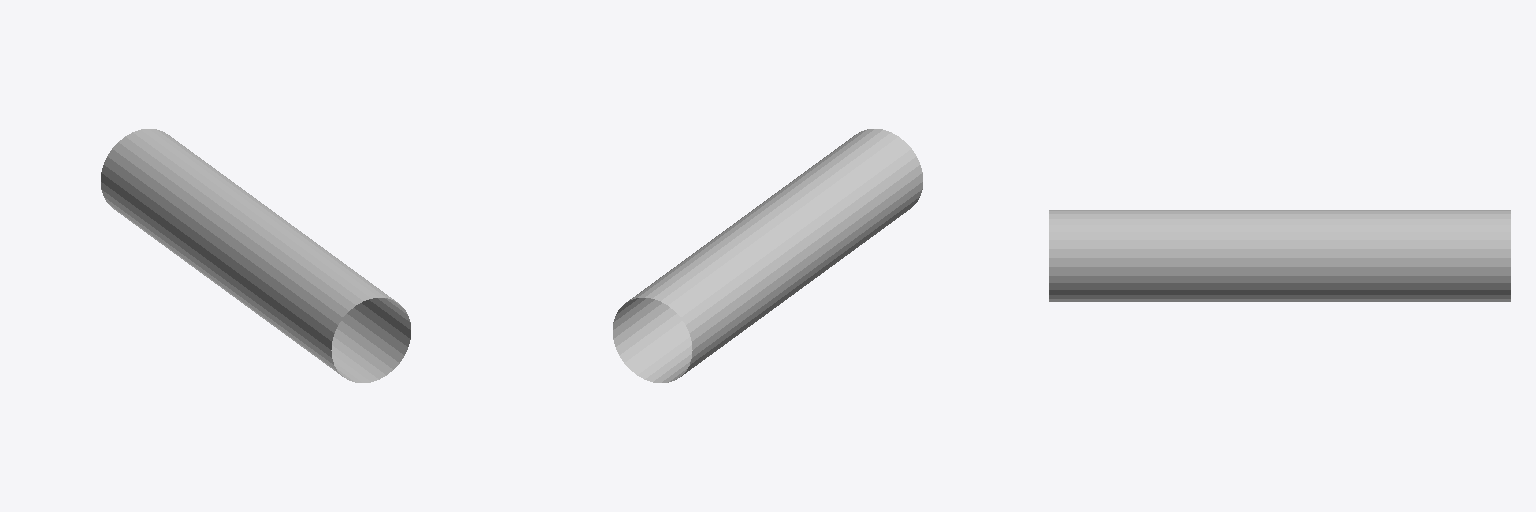
File: Pipe_Cylinder.obj
3 renders of one model, left to right at view 1: azimuth 30°, elevation 25°; view 2: azimuth 150°, elevation 25°; view 3: azimuth 270°, elevation 25°, orthographic.
Visible parts, largest first — view 1: Cylinder; view 2: Cylinder; view 3: Cylinder.
Boxes of the visible parts, x1,y1,x2,y2 form: Cylinder: [101, 129, 410, 382]; Cylinder: [613, 129, 922, 382]; Cylinder: [1049, 210, 1510, 301].
Size of the model in its own units: 1 by 1 by 5.